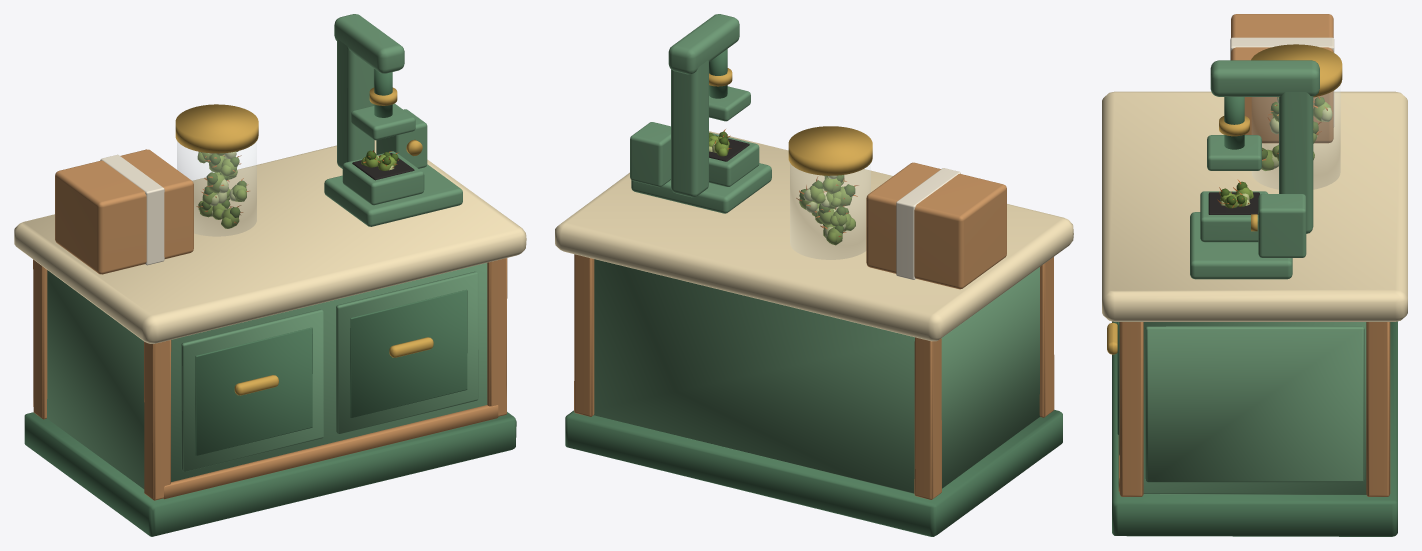
The model's file is pack_bench_tier1.glb.
The picture shows the model from 3 angles, left to right: view 1: azimuth 30°, elevation 25°; view 2: azimuth 150°, elevation 25°; view 3: azimuth 270°, elevation 25°; orthographic projection. The views are drawn at different scales.
Visible parts, largest first — view 1: Top, Body, Plinth, KraftBox, DrawerInset1, DrawerInset0, Drawer0, Drawer1, Jar, OakRail, Post-1-1, PressBase (+10 smaller); view 2: Body, Top, Plinth, KraftBox, Jar, PressColumn, Post-11, JarLid, Post11, PressArm, PressBase, PressSide (+5 smaller); view 3: Top, EndPanel, Plinth, Body, KraftBox, Jar, Post1-1, Post11, PressArm, PressColumn, PressBase, PressSide (+8 smaller).
Part boxes in pixels (<box>): Top: <box>14,140,526,343</box>; Body: <box>47,263,487,489</box>; Plinth: <box>24,412,516,536</box>; KraftBox: <box>55,149,193,274</box>; DrawerInset1: <box>350,289,467,417</box>; DrawerInset0: <box>195,327,312,455</box>; Drawer0: <box>181,309,323,471</box>; Drawer1: <box>336,271,478,433</box>; Jar: <box>177,141,256,236</box>; OakRail: <box>163,405,498,499</box>; Post-1-1: <box>144,340,171,500</box>; PressBase: <box>324,164,462,226</box>; Body: <box>594,259,1039,493</box>; Top: <box>555,131,1073,341</box>; Plinth: <box>565,409,1062,536</box>; KraftBox: <box>866,162,1006,289</box>; Jar: <box>790,163,870,259</box>; PressColumn: <box>671,60,708,197</box>; Post-11: <box>914,337,941,499</box>; JarLid: <box>788,126,872,175</box>; Post11: <box>574,254,594,416</box>; PressArm: <box>668,14,739,74</box>; PressBase: <box>631,163,771,213</box>; PressSide: <box>630,122,670,187</box>; Top: <box>1102,91,1407,321</box>; EndPanel: <box>1145,326,1364,482</box>; Plinth: <box>1112,321,1397,536</box>; Body: <box>1143,322,1366,494</box>; KraftBox: <box>1231,14,1333,143</box>; Jar: <box>1252,86,1340,189</box>; Post1-1: <box>1119,322,1143,496</box>; Post11: <box>1366,322,1390,496</box>; PressArm: <box>1210,60,1319,96</box>; PressColumn: <box>1279,92,1313,233</box>; PressBase: <box>1190,212,1292,279</box>; PressSide: <box>1258,194,1306,257</box>.
Bounding box in the file's own units: 1.43 × 1.39 × 0.894.
